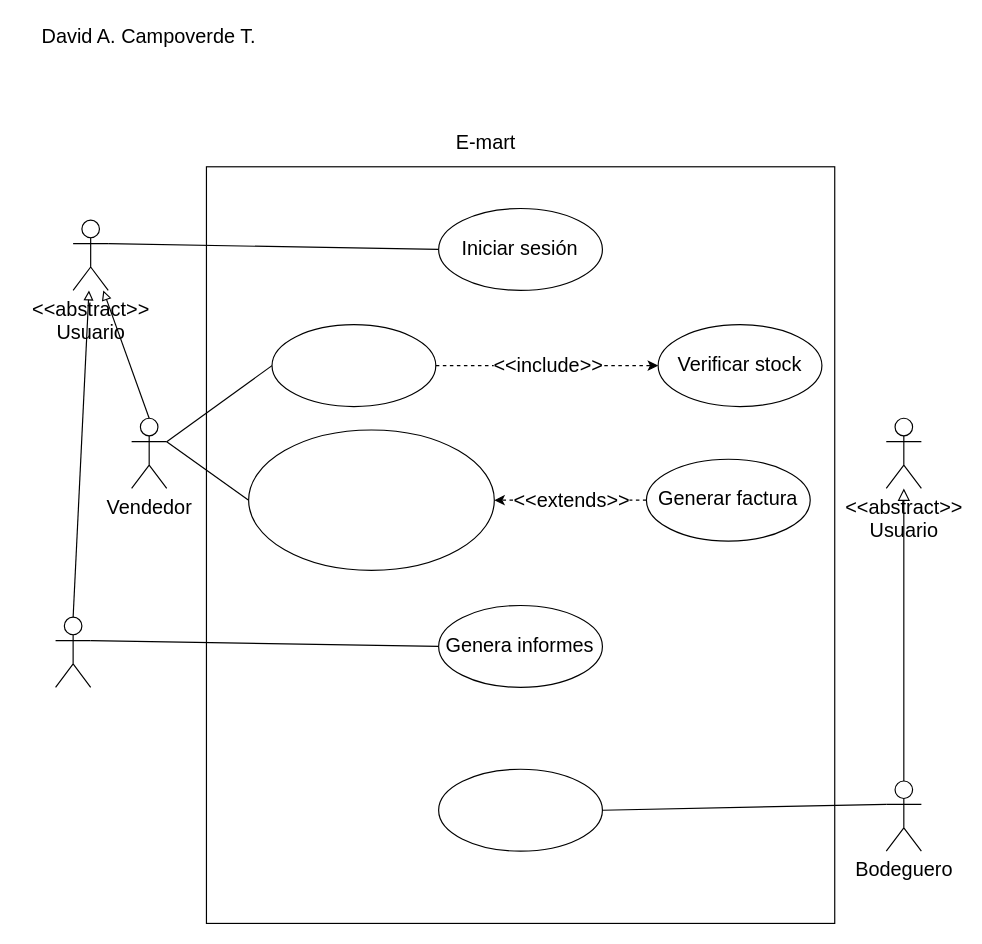
This 982x944 diagram has some shape labels left out. Here are the shapes that lost their labels. From the top down, the centre of each, then its label:
[353,365]: Vender Producto
[370,499]: Administrar ventas extension point cliente solicita factura
[72,651]: Gerente
[519,809]: <<CRUD>> Gestiona Productos
